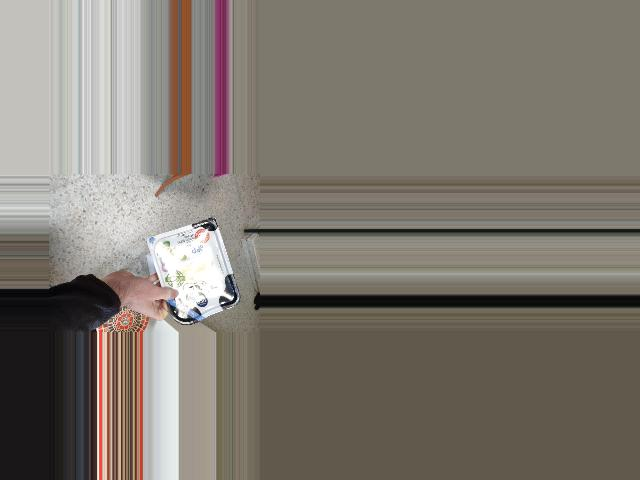cheese: (164, 229, 230, 319)
